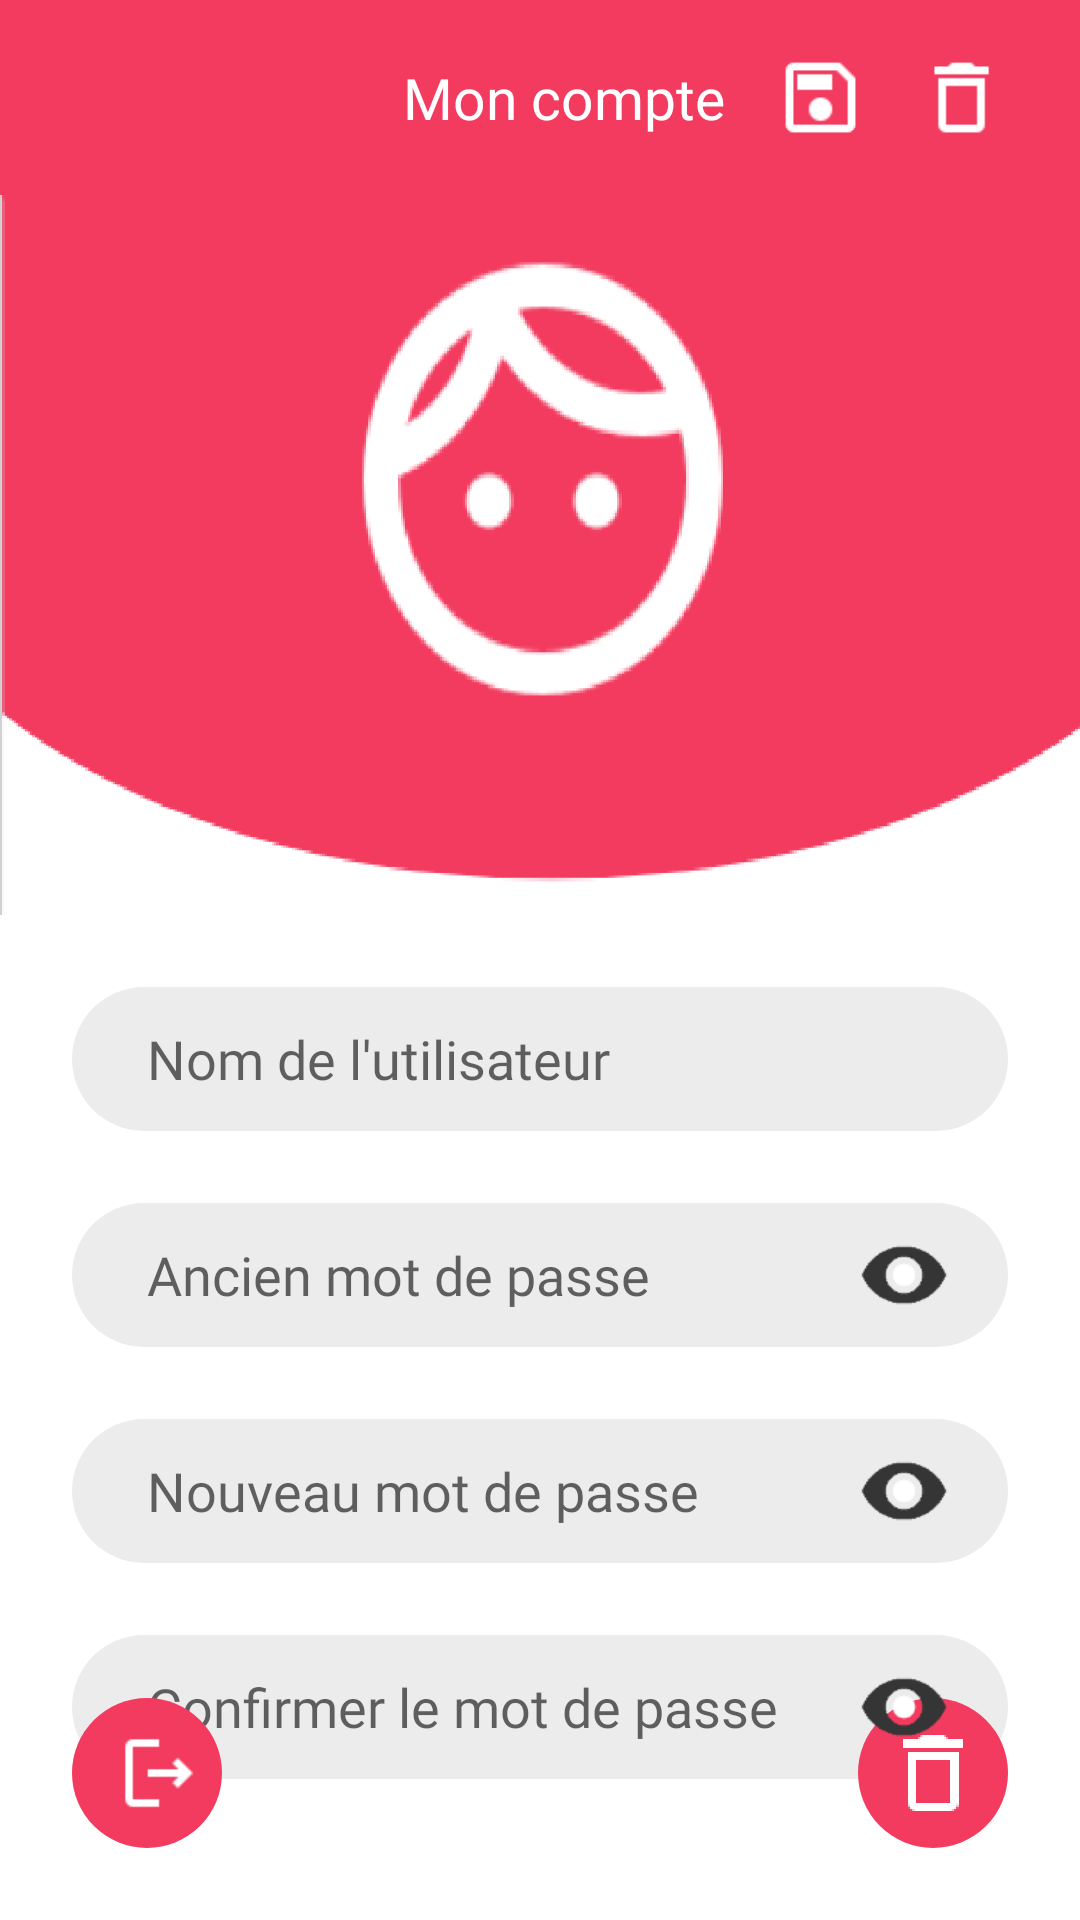

Icon bounding boxes for this 1080×1920 phone screenshot, format detection(x1, y1, x2, y2):
delete: detection(934, 62, 989, 133)
save: detection(785, 62, 856, 133)
